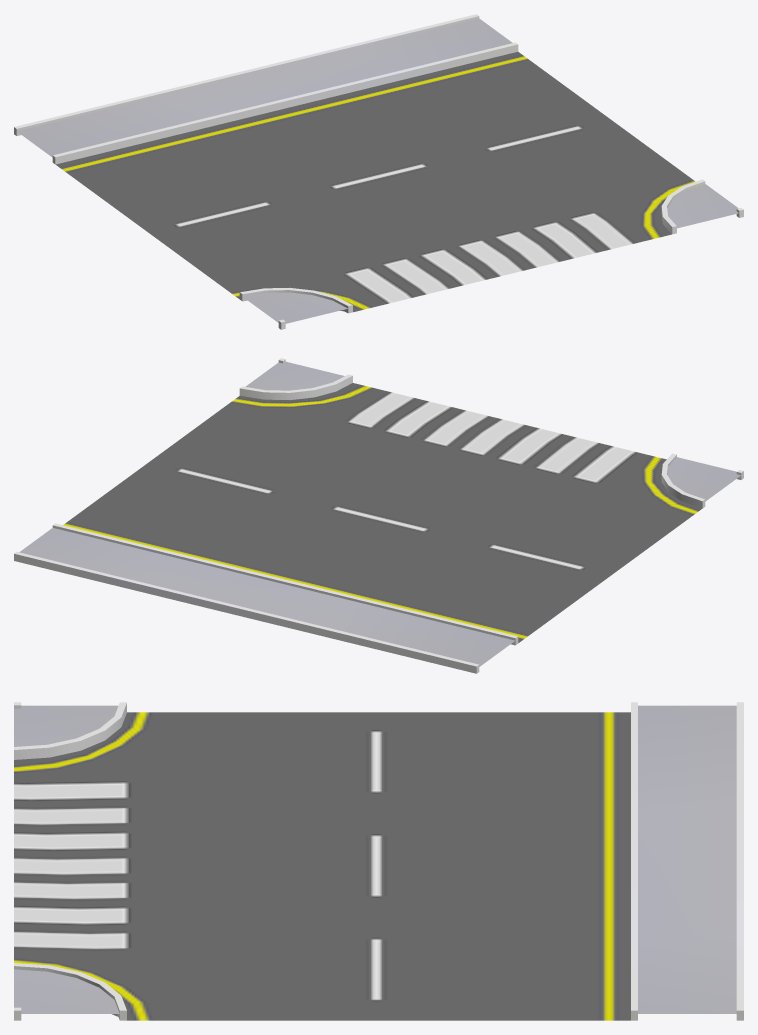
The model's file is ROAD_intersection_T.FBX.
3 renders of one model, top to bottom at view 1: azimuth 30°, elevation 25°; view 2: azimuth 150°, elevation 25°; view 3: azimuth 270°, elevation 25°, orthographic. The views are drawn at different scales.
Visible parts, largest first — view 1: ROAD_intersection_T; view 2: ROAD_intersection_T; view 3: ROAD_intersection_T.
Part boxes in pixels (x1,y1,x2,y2): ROAD_intersection_T: (14, 14, 743, 329); ROAD_intersection_T: (14, 358, 743, 673); ROAD_intersection_T: (14, 702, 743, 1020).
Size of the model in its own units: 1 by 0.015 by 1.
